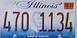placa de veiculo: (1, 0, 76, 37)
